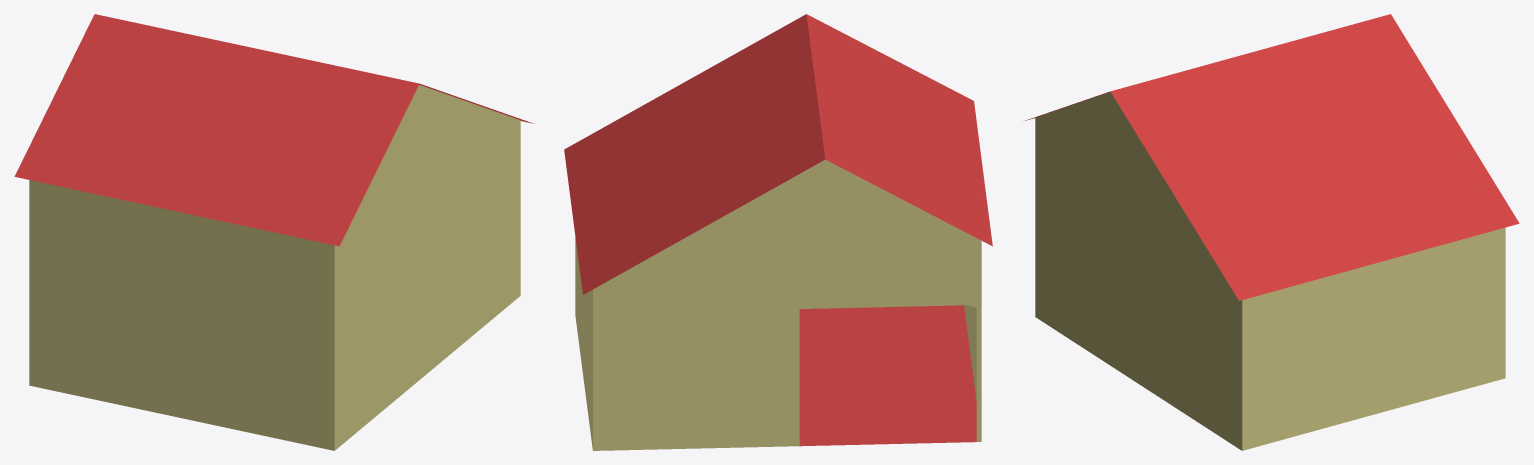
3 renders of one model, left to right at view 1: azimuth 30°, elevation 25°; view 2: azimuth 150°, elevation 25°; view 3: azimuth 270°, elevation 25°, orthographic. The views are drawn at different scales.
Size of the model in its own units: 25.26 by 24.35 by 15.21.
